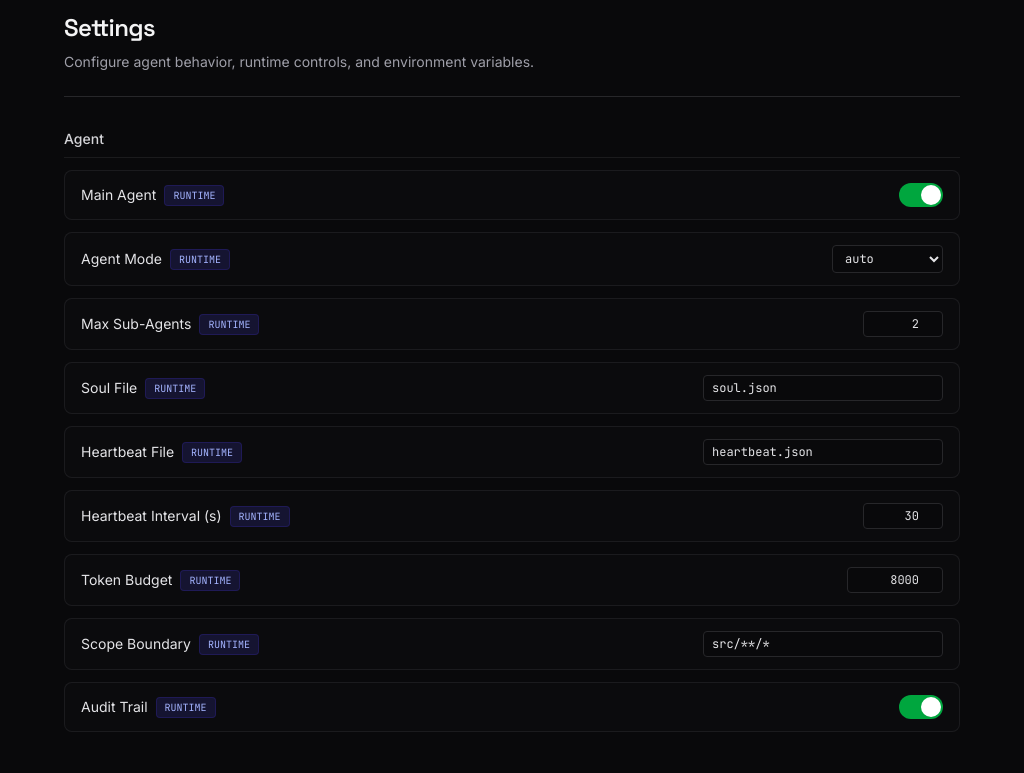
Test case: Settings › section collapse/expand works (clicking same section closes it)
This screenshot has width=1024, height=773.
Expected: the text "Main Agent" is shown, x1=81 y1=185 x2=156 y2=205
Click the button "Agent": [84, 138] box x1=64 y1=121 x2=960 y2=158
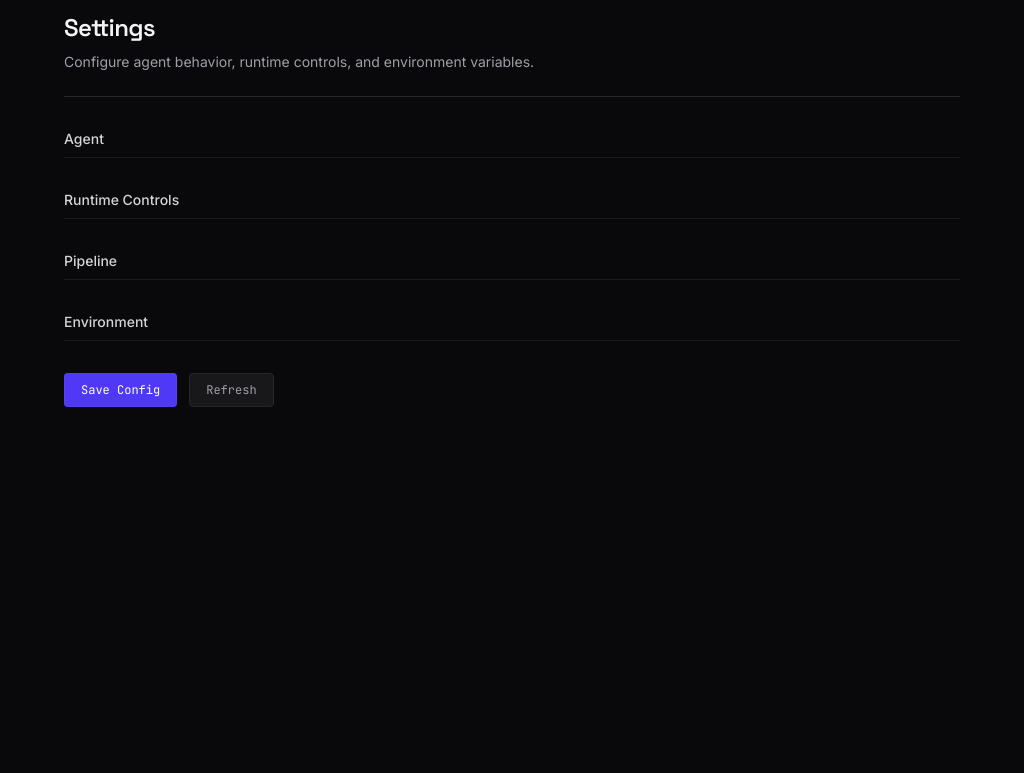
Now the text "Main Agent" is gone
